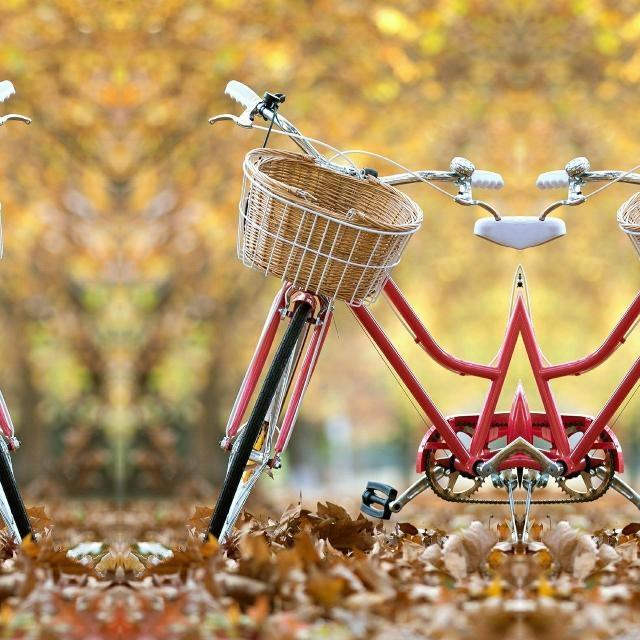obstacle: (164, 46, 520, 560), (519, 45, 640, 560), (0, 45, 76, 560)
